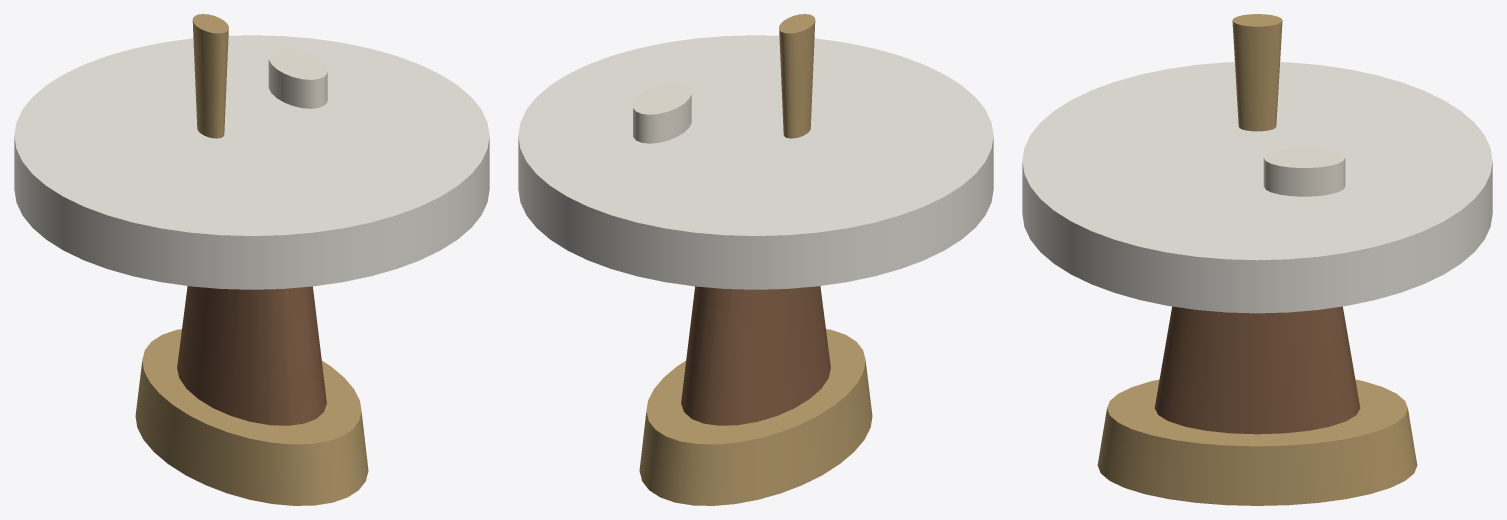
File: studio-table-marble.glb
The picture shows the model from 3 angles, left to right: view 1: azimuth 30°, elevation 25°; view 2: azimuth 150°, elevation 25°; view 3: azimuth 270°, elevation 25°; orthographic projection.
Parts seen in each view (by area): view 1: part (×4); view 2: part (×4); view 3: part (×4).
Part boxes in pixels (bbox=[...]): part (×4): bbox=[14, 14, 489, 505]; part (×4): bbox=[518, 14, 993, 505]; part (×4): bbox=[1022, 14, 1492, 505].
Bounding box in the file's own units: 1 × 1 × 1.
